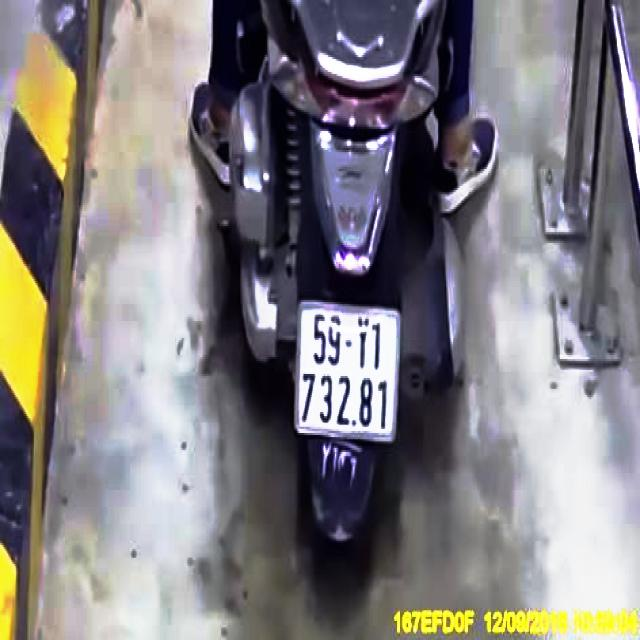license_plate: (296, 299, 403, 446)
